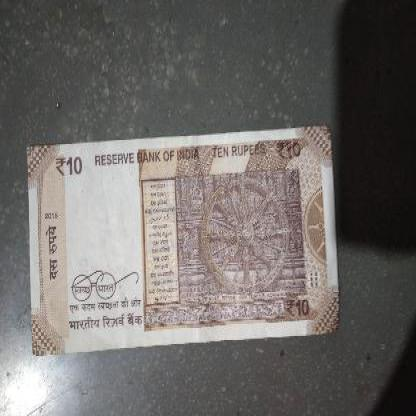New10Back: (24, 125, 340, 334)
